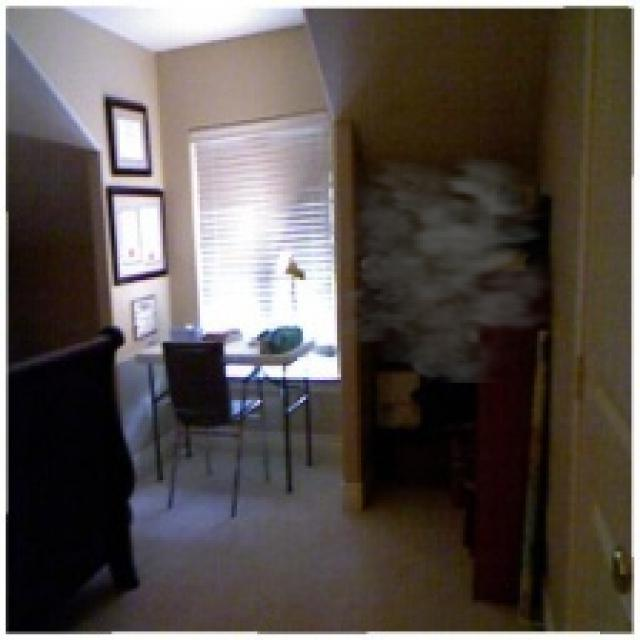smoke: (311, 137, 566, 383)
